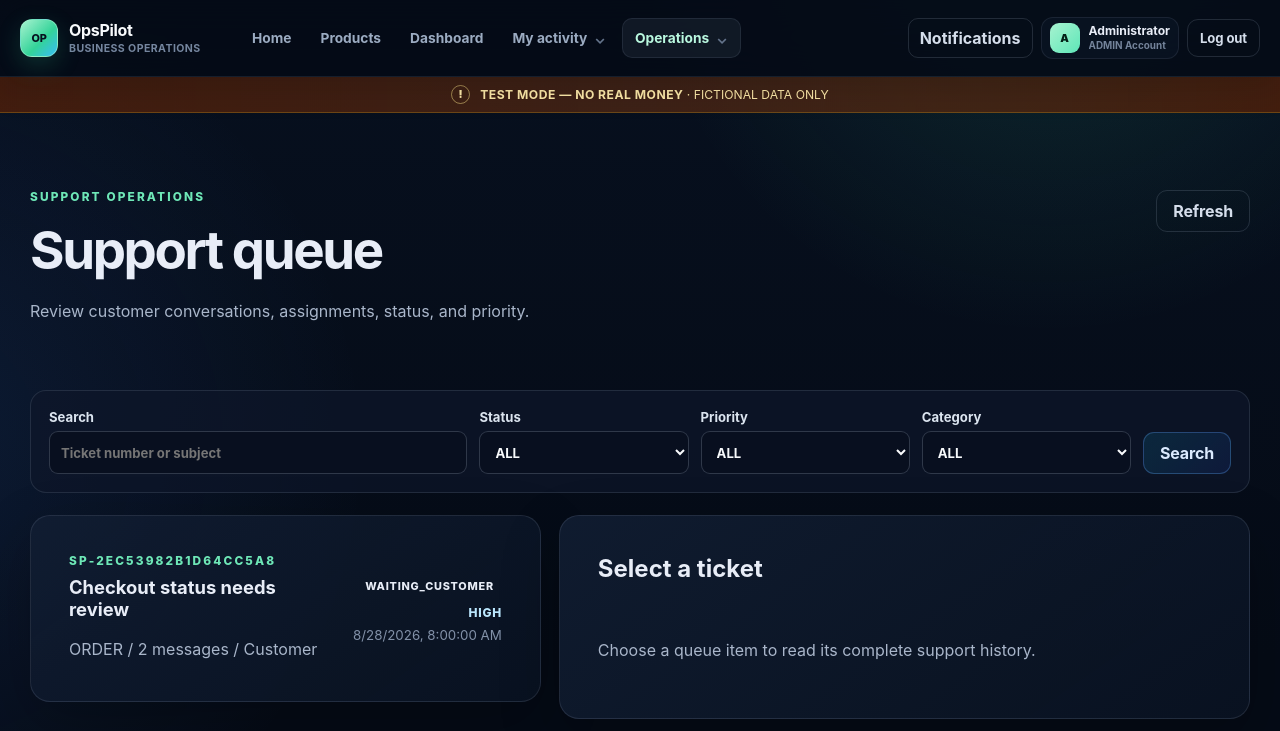
it: Phase 5 support UI › shows internal notes distinctly and lets an operator update and reply
Click the button "Checkout status needs review".
click(173, 561)  # box top-left (30, 515), bottom-right (541, 702)
(page scrolled)
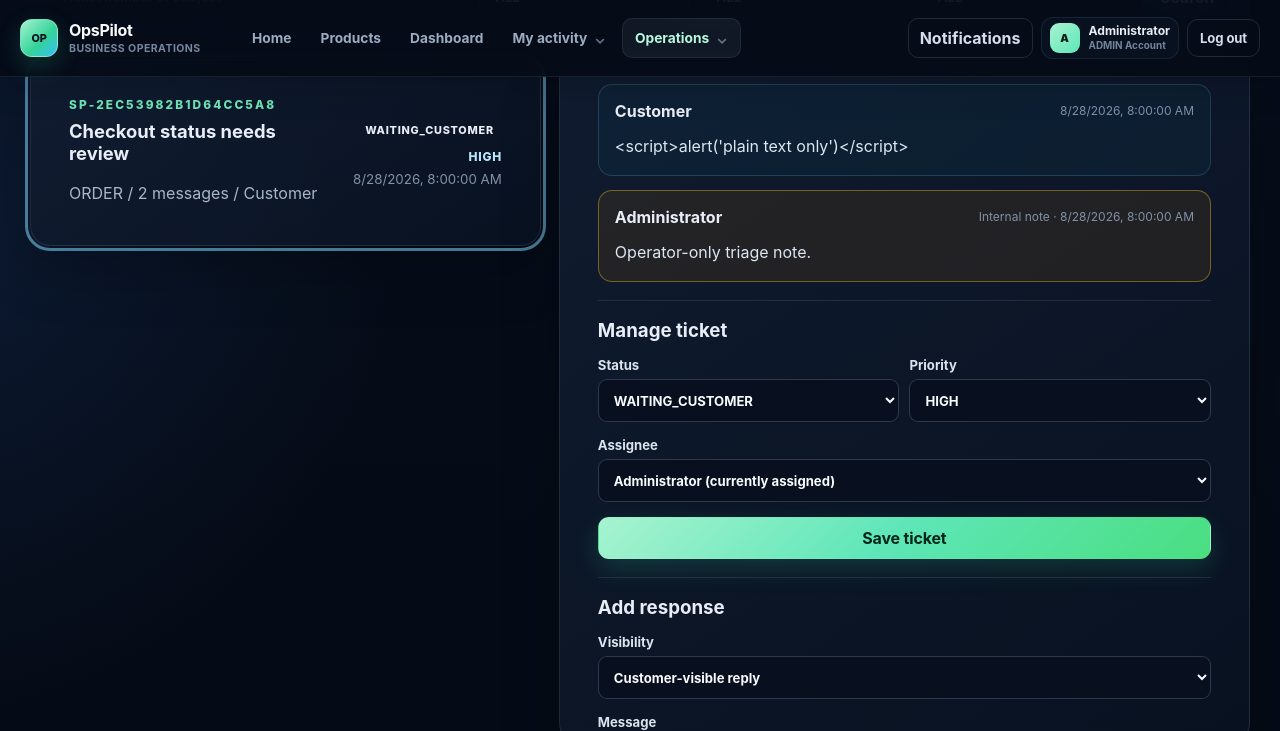
Check: the text "Operator-only triage note." is shown, box top-left (615, 242), bottom-right (811, 262)
Check: the text "Internal note · 8/28/2026, 8:00:00 AM" is shown, box top-left (979, 210), bottom-right (1194, 224)
Select "RESOLVED" in the dropdown labelled "Status" at (749, 401), box top-left (598, 379), bottom-right (899, 422)
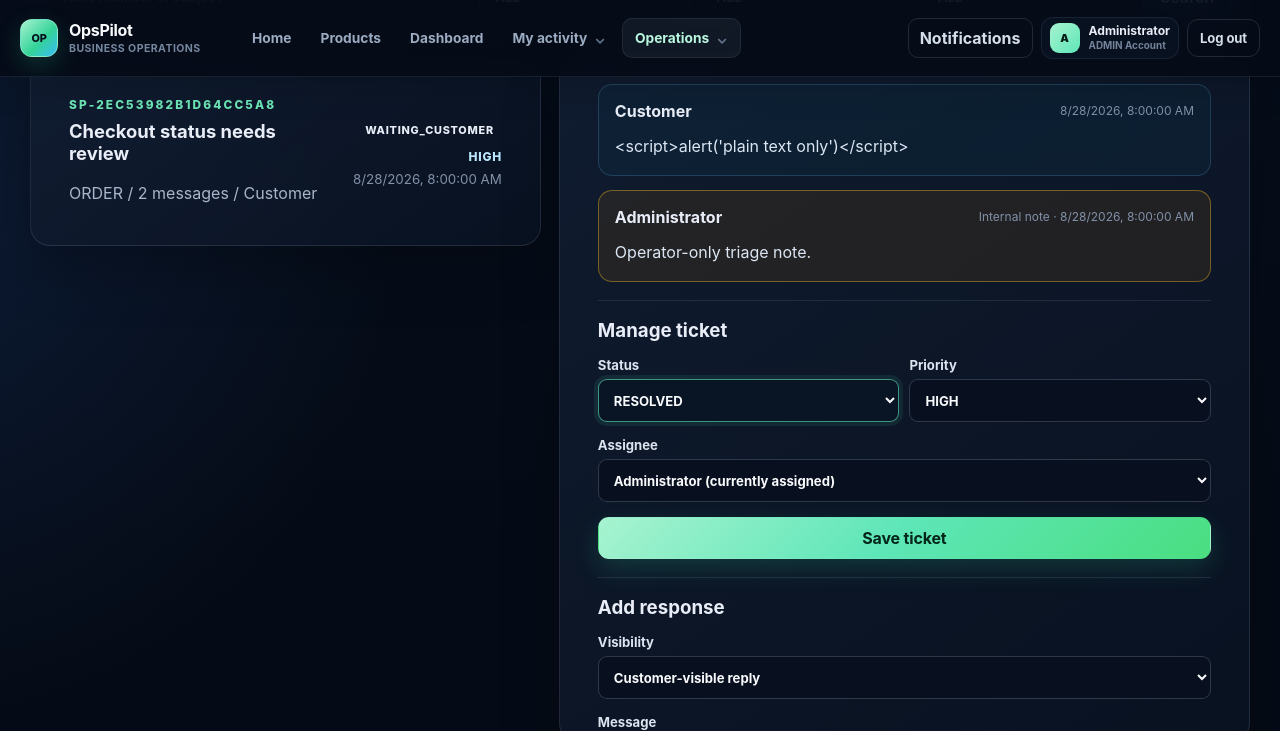
Click the button "Save ticket".
click(904, 538)  # box top-left (598, 517), bottom-right (1211, 559)
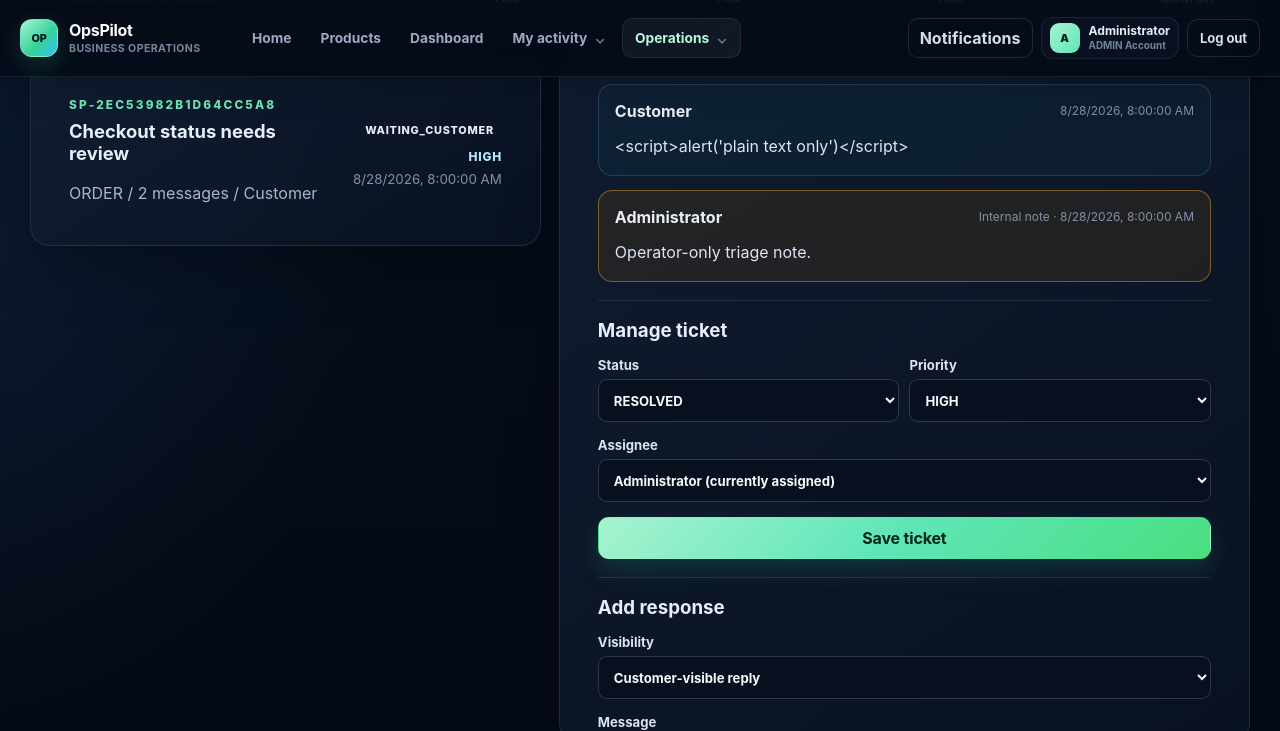
Select "Internal note" in the dropdown labelled "Visibility" at (904, 678), box top-left (598, 656), bottom-right (1211, 699)
(page scrolled)
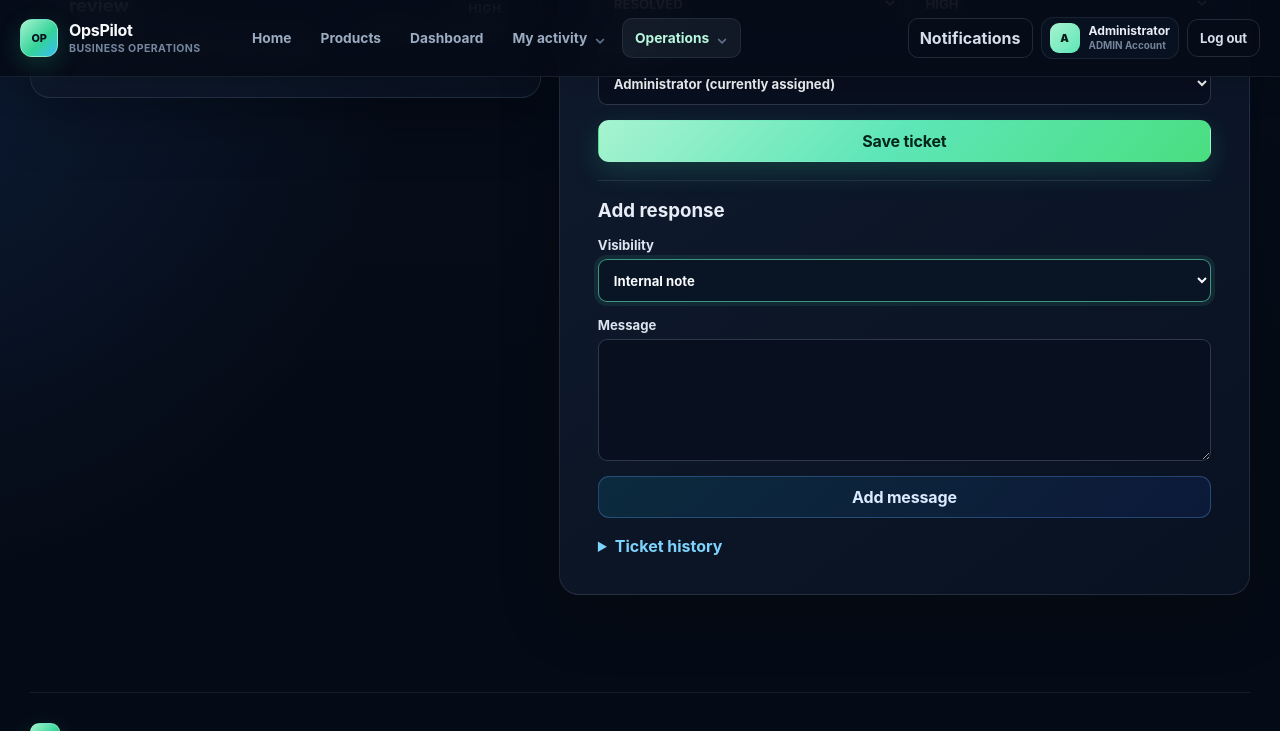
Type "Fresh private note" into the text box labelled "Message".
click(904, 400); type("Fresh private note")  # box top-left (598, 339), bottom-right (1211, 461)
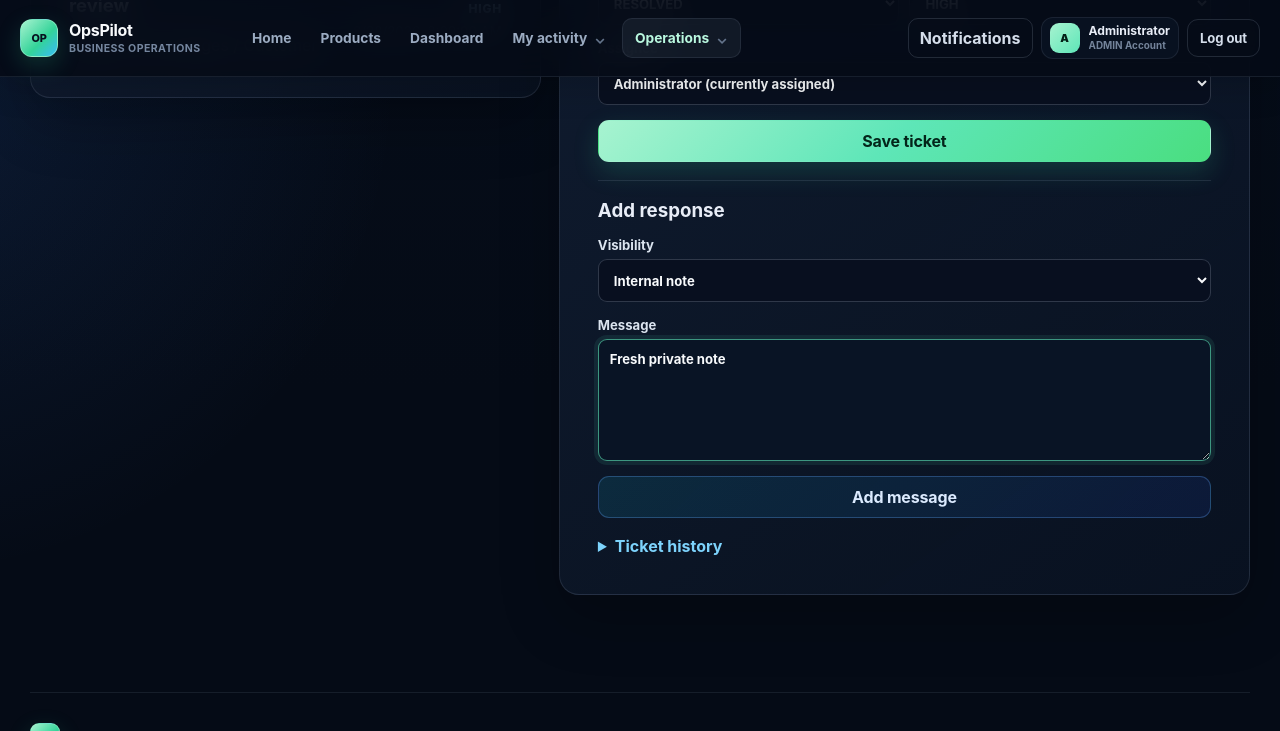
Click the button "Add message".
click(904, 497)  # box top-left (598, 476), bottom-right (1211, 518)
(page scrolled)
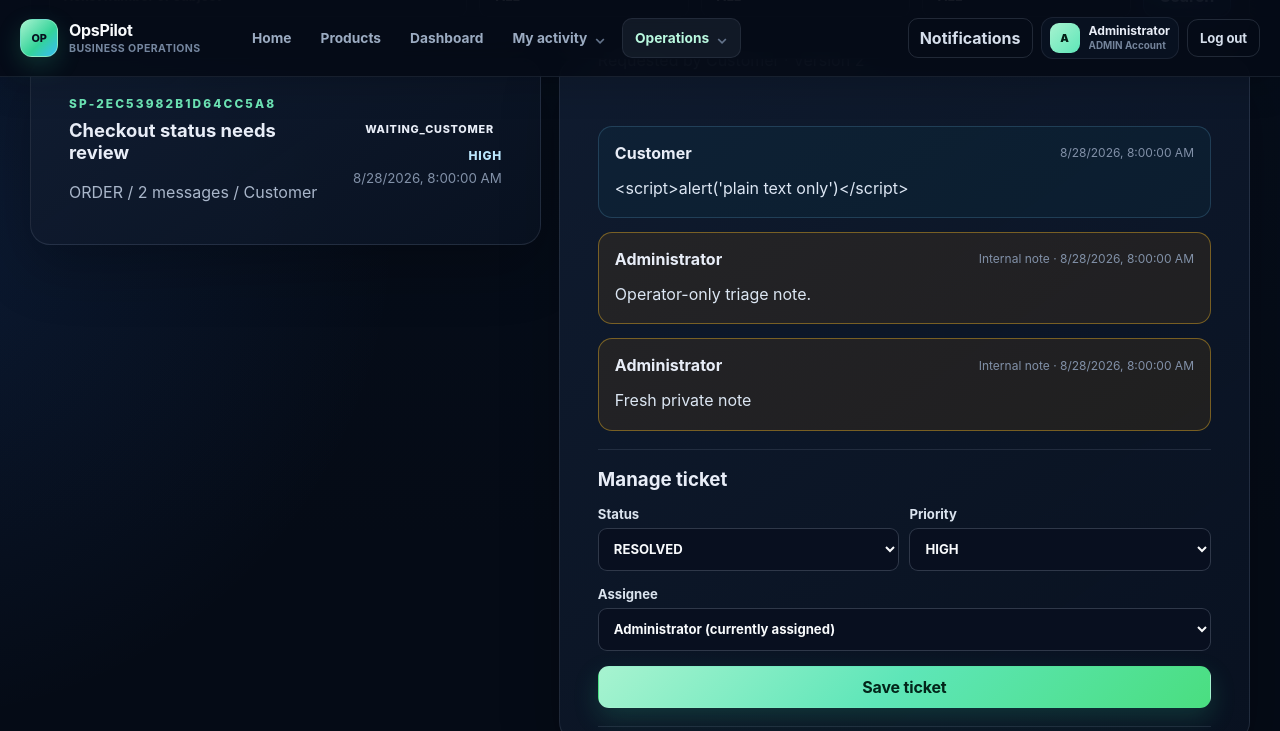
Check: the text "Fresh private note" is shown, box top-left (615, 390), bottom-right (751, 410)
